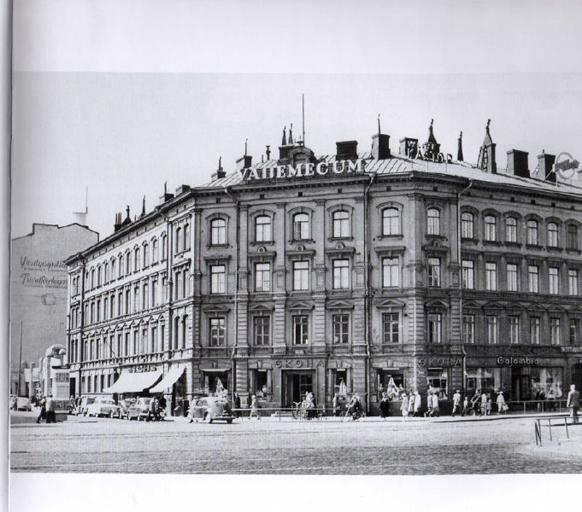non-vehicle: (338, 404, 366, 422), (291, 400, 311, 420)
